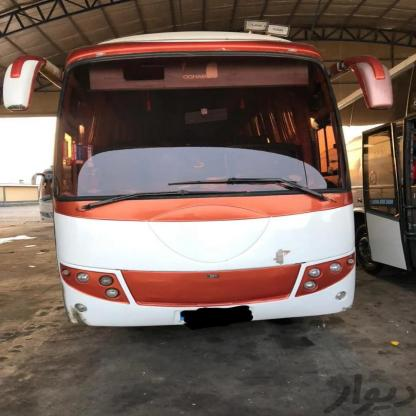Bus: (36, 44, 370, 318)
